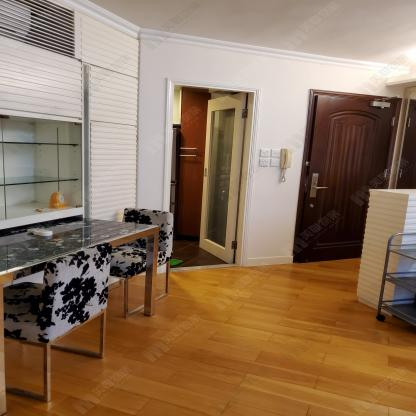Dining Table: (0, 216, 160, 285)
